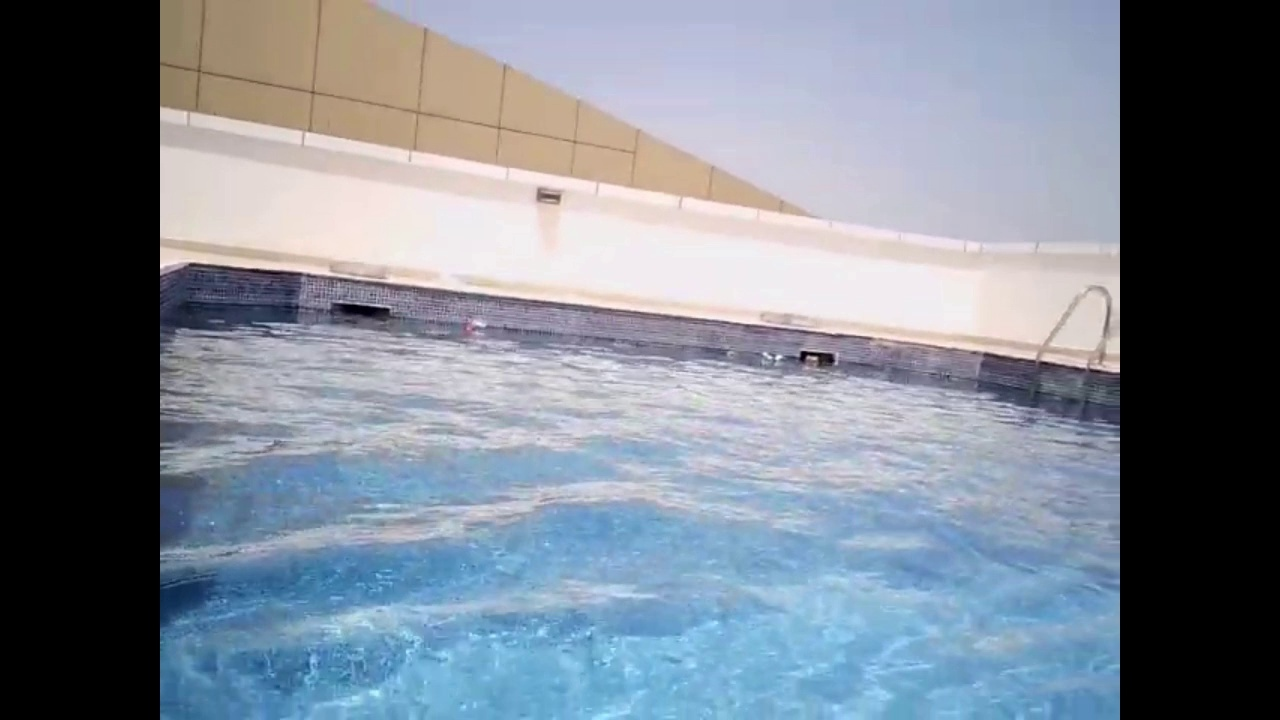debris: (754, 345, 779, 368), (466, 319, 490, 337), (800, 349, 822, 368), (768, 351, 788, 368), (724, 347, 737, 362)
